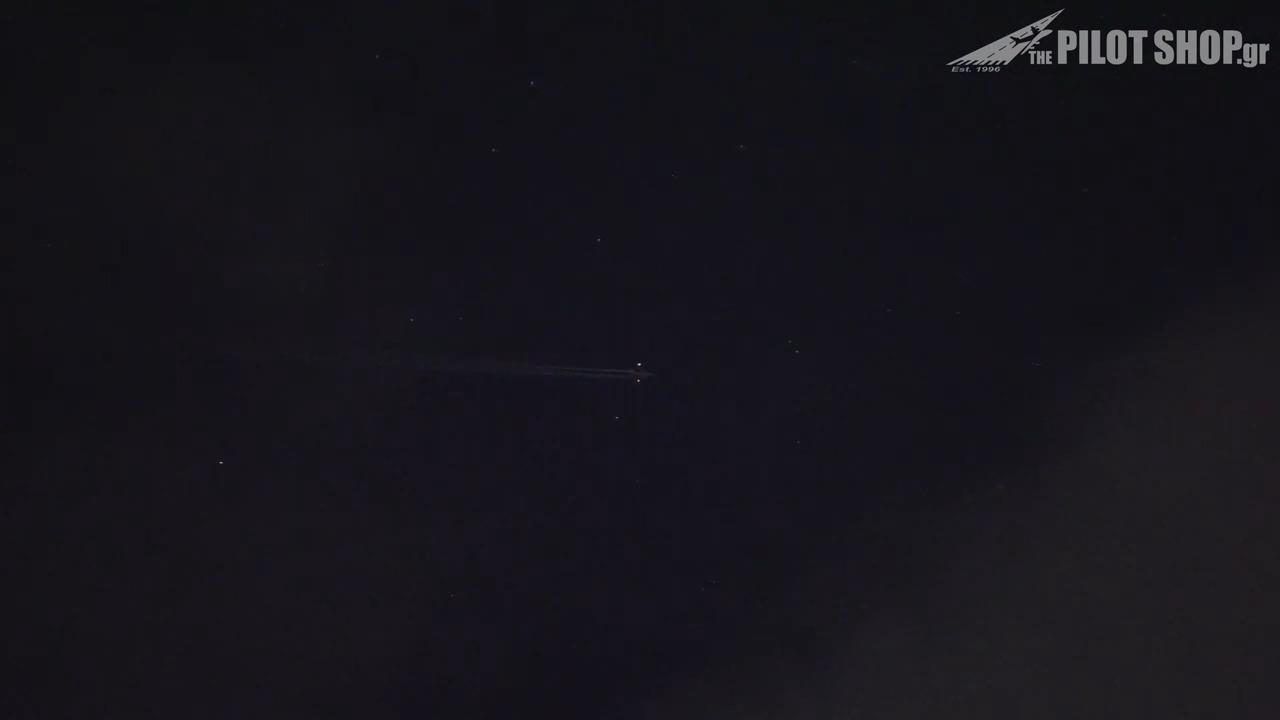Plane: (489, 353, 685, 391)
